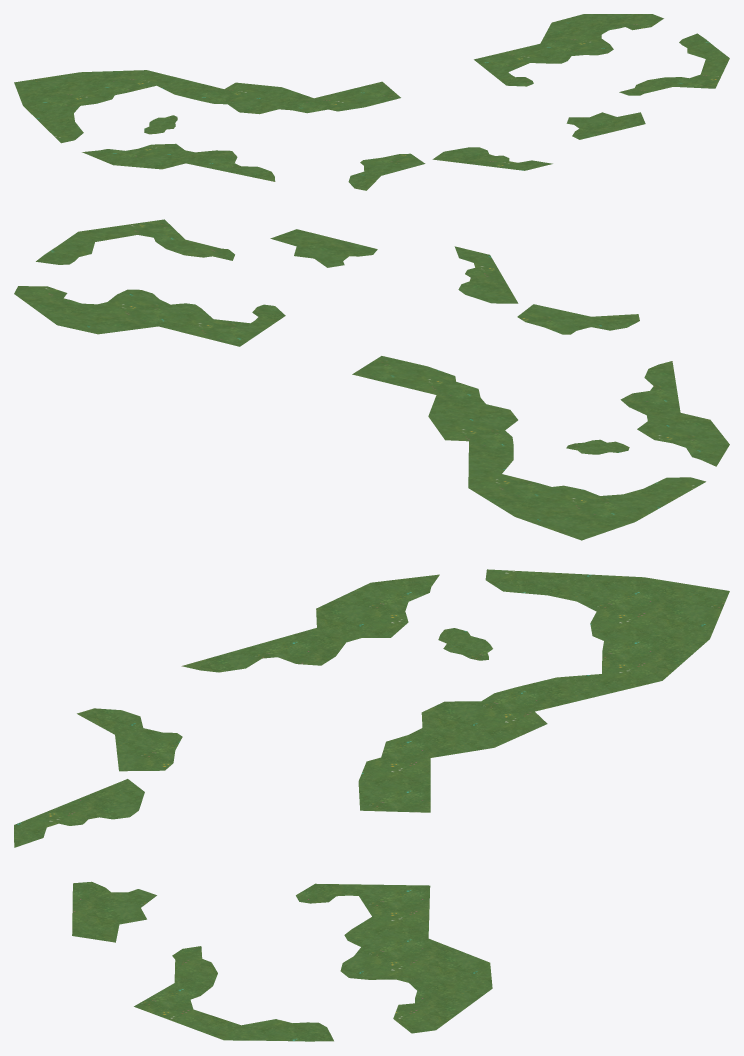
Rendered from Map_06_plant03.FBX.
The picture shows the model from 3 angles, top to bottom: view 1: azimuth 30°, elevation 25°; view 2: azimuth 150°, elevation 25°; view 3: azimuth 270°, elevation 25°; orthographic projection. The views are drawn at different scales.
Parts seen in each view (by area): view 1: Map_06_plant03; view 2: Map_06_plant03; view 3: Map_06_plant03.
Boxes of the visible parts, left/top/right/bottom form: Map_06_plant03: left=14, top=14, right=729, bottom=190; Map_06_plant03: left=14, top=219, right=729, bottom=540; Map_06_plant03: left=14, top=569, right=729, bottom=1041.
Bounding box in the file's own units: 13013 × 0.0822 × 8340.
1 material, 1 textured.
